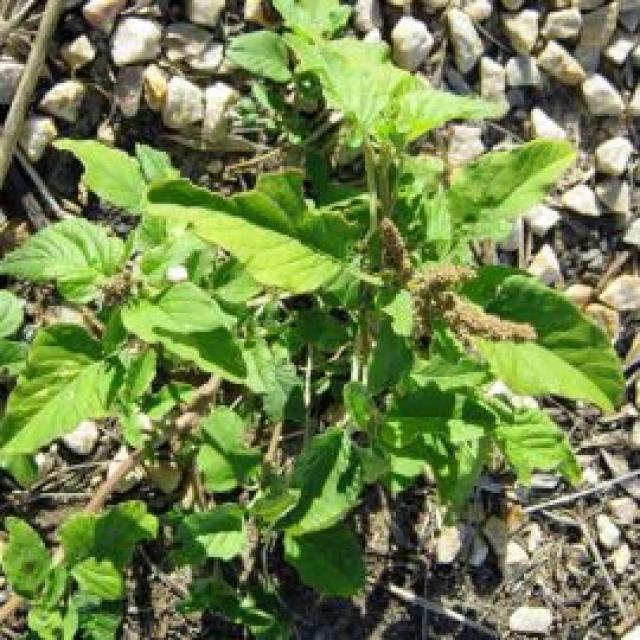Medicinal-Arive Dantu: (167, 164, 625, 428), (2, 214, 267, 402)
